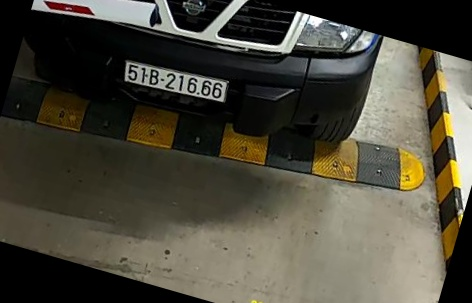plate: (117, 54, 239, 113)
